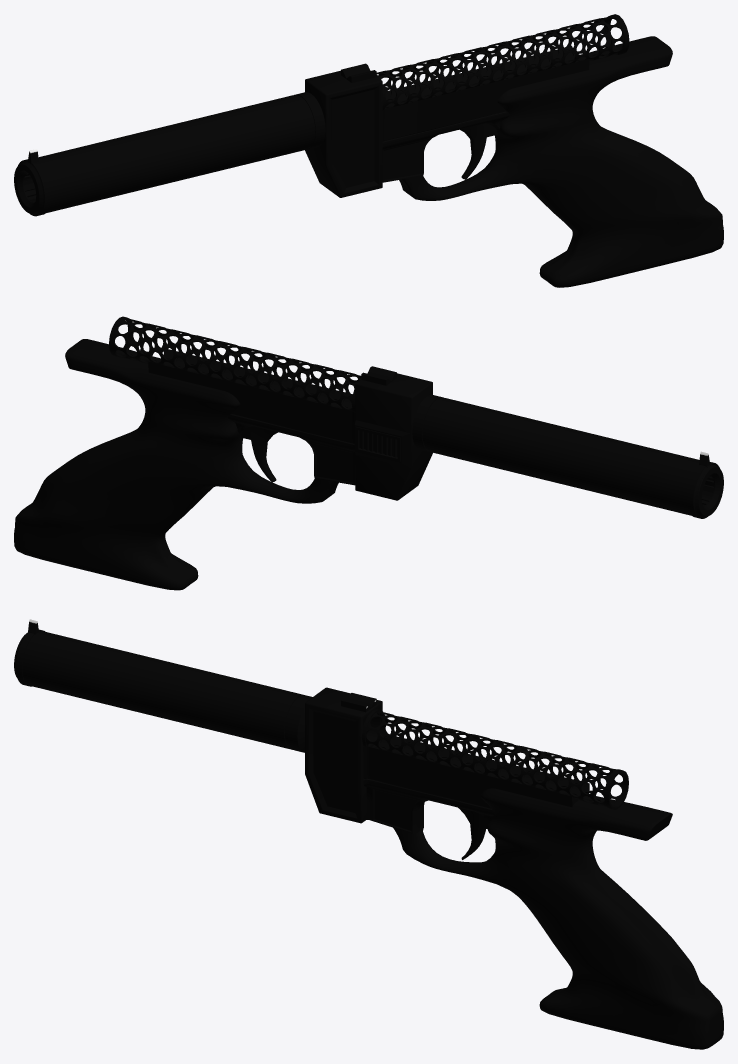
The model's file is Gun2.fbx.
The picture shows the model from 3 angles, top to bottom: view 1: azimuth 30°, elevation 25°; view 2: azimuth 150°, elevation 25°; view 3: azimuth 330°, elevation 25°; orthographic projection.
Parts seen in each view (by area): view 1: Gun; view 2: Gun; view 3: Gun.
Part boxes in pixels (<box>): Gun: <box>14,14,723,287</box>; Gun: <box>14,316,723,590</box>; Gun: <box>14,619,723,1049</box>.
Bounding box in the file's own units: 481 × 173 × 37.54.
